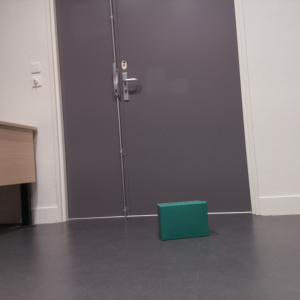small: (155, 200, 212, 242)
